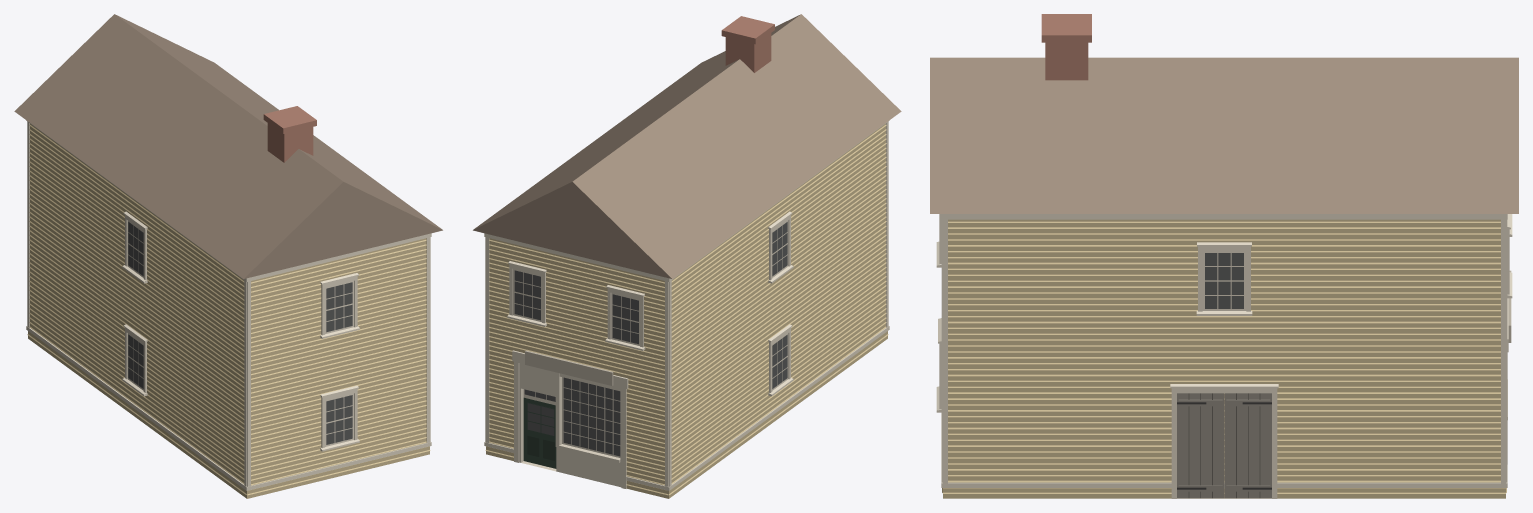
Rendered from recon_1835_gifford_c3_015__inferred_1835.glb.
3 views of the same model, side by side, from view 1: azimuth 30°, elevation 25°; view 2: azimuth 150°, elevation 25°; view 3: azimuth 270°, elevation 25° (orthographic). The views are drawn at different scales.
Parts seen in each view (by area): view 1: recon_1835_gifford_c3_015__inferred_1835; view 2: recon_1835_gifford_c3_015__inferred_1835; view 3: recon_1835_gifford_c3_015__inferred_1835.
Part boxes in pixels (<box>): recon_1835_gifford_c3_015__inferred_1835: <box>14,14,442,498</box>; recon_1835_gifford_c3_015__inferred_1835: <box>473,14,901,498</box>; recon_1835_gifford_c3_015__inferred_1835: <box>930,14,1518,498</box>.
Bounding box in the file's own units: 5.8 × 8.98 × 11.5.
